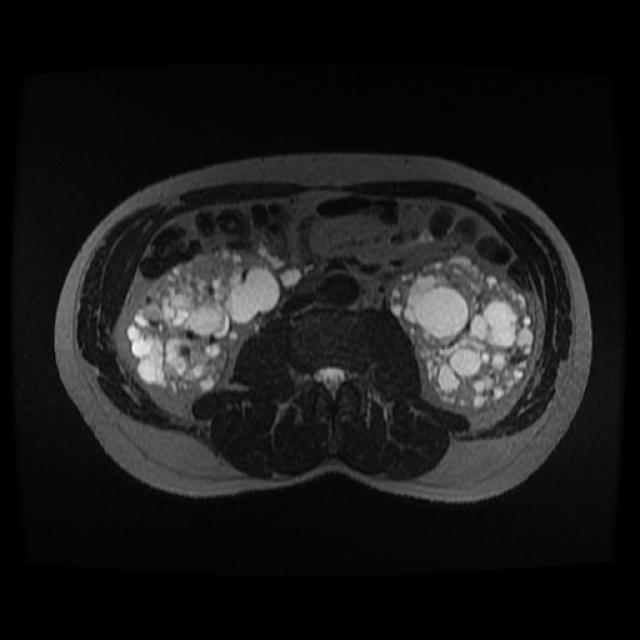sag: (123, 245, 283, 406)
sol: (389, 249, 537, 409)
